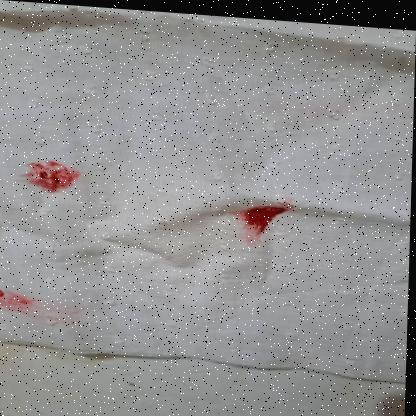spot: (227, 190, 298, 240), (17, 154, 84, 200), (0, 284, 41, 318)
